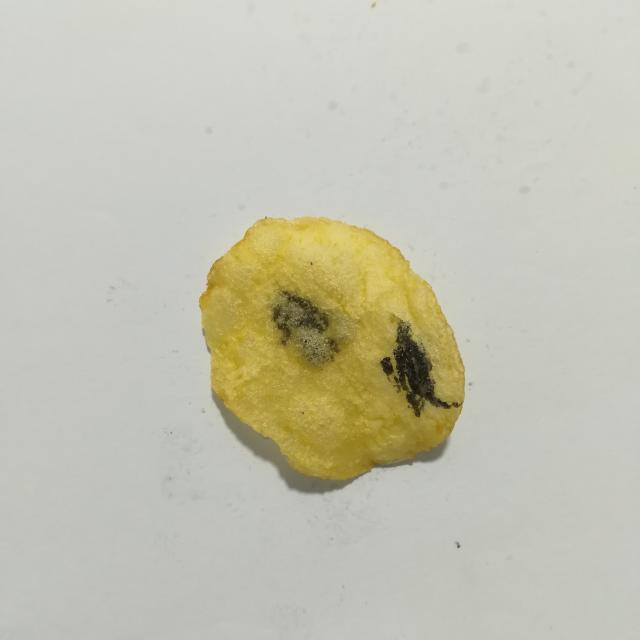chip: (200, 217, 464, 480)
damaged: (393, 320, 459, 417), (380, 357, 394, 379)
semi-damaged: (272, 291, 340, 369)
